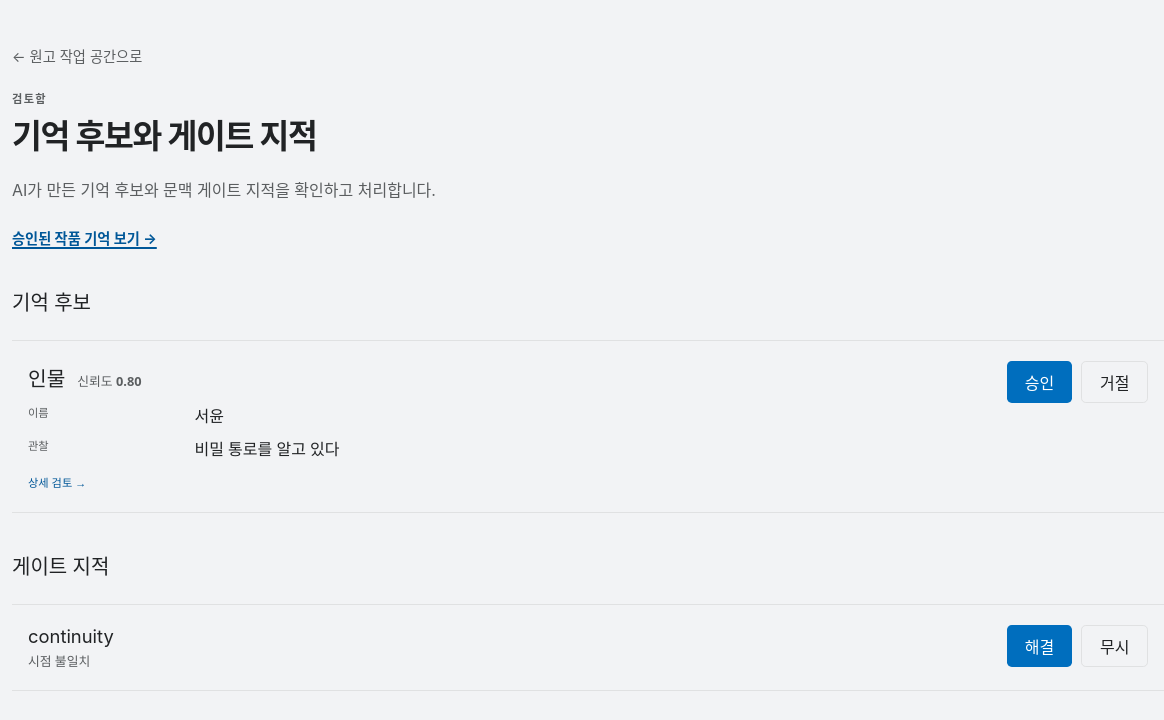
ReviewInbox › resolves a gate finding via the resolve endpoint then re-reads
Click the button "해결" at x=1039, y=646, box [1007,625,1072,667]
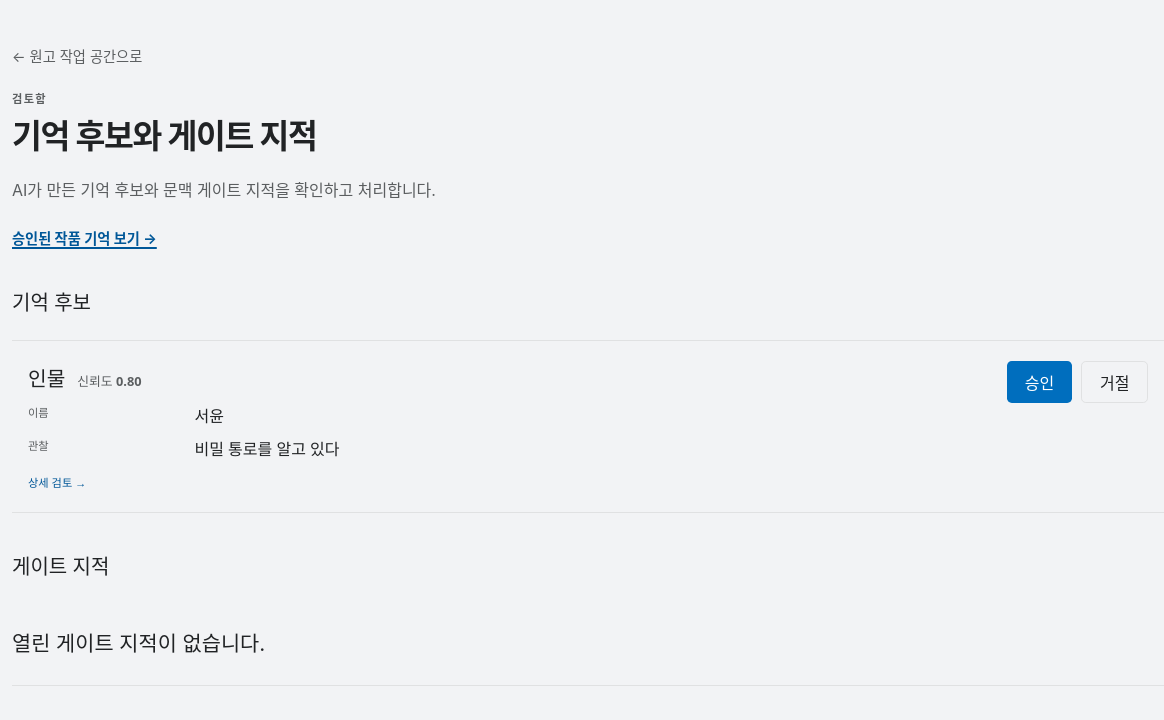
Expected: the text "열린 게이트 지적이 없습니다." is shown, [12,631,265,656]
